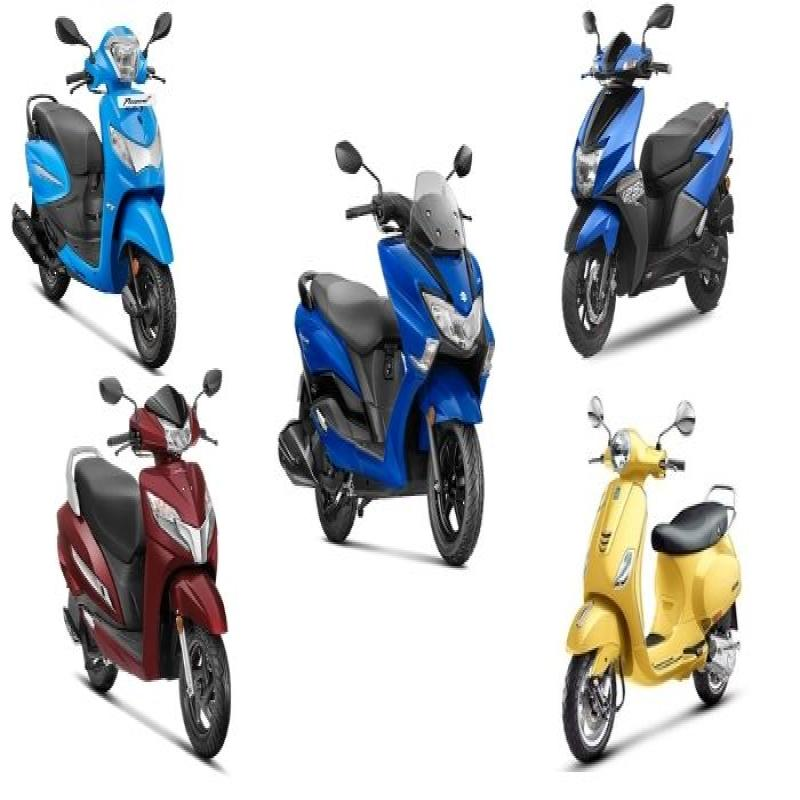bike: (272, 97, 500, 592), (41, 312, 249, 768), (549, 388, 747, 784), (8, 3, 217, 364), (548, 2, 752, 365)
